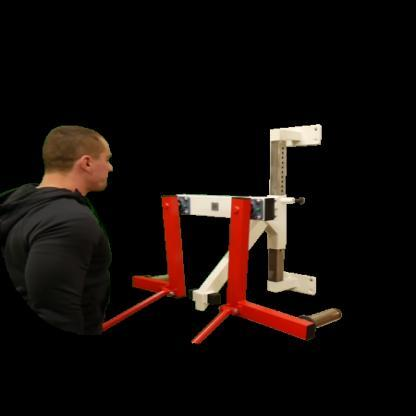lateral raises machine: (113, 122, 342, 343)
